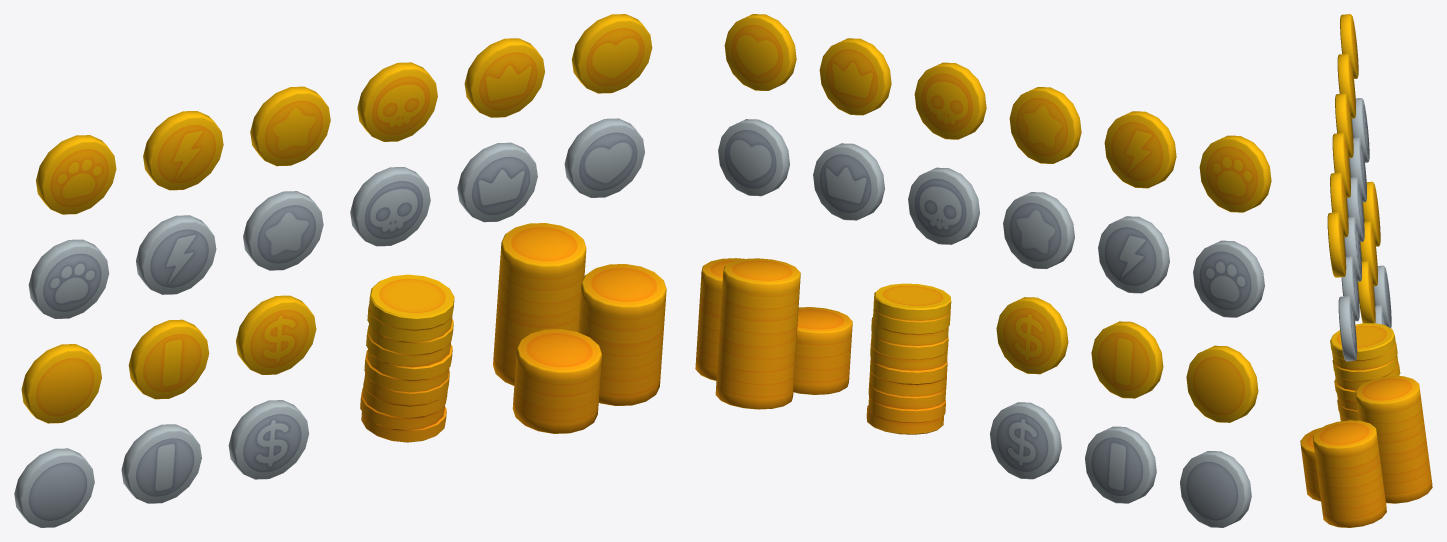
The model's file is Coin Pack.gltf.
3 views of the same model, side by side, from view 1: azimuth 30°, elevation 25°; view 2: azimuth 150°, elevation 25°; view 3: azimuth 270°, elevation 25° (orthographic). The views are drawn at different scales.
Visible parts, largest first — view 1: Coins_02, Coins_01, Coin_Pet_Gold, Coin_Star_Silver, Coin_One_Silver, Coin_Silver, Coin_Thunder_Silver, Coin_Crown_Gold, Coin_Heart_Gold, Coin_Heart_Silver, Coin_Dollar_Silver, Coin_Star_Gold (+8 smaller); view 2: Coins_02, Coins_01, Coin_One_Gold, Coin_Pet_Gold, Coin_Skull_Gold, Coin_One_Silver, Coin_Skull_Silver, Coin_Crown_Gold, Coin_Pet_Silver, Coin_Star_Silver, Coin_Thunder_Gold, Coin_Heart_Silver (+8 smaller); view 3: Coins_02, Coins_01, Coin_Heart_Gold, Coin_Heart_Silver, Coin_Dollar_Gold, Coin_Star_Gold, Coin_Crown_Gold, Coin_Pet_Gold, Coin_Thunder_Gold, Coin_Skull_Gold, Coin_Crown_Silver, Coin_Gold (+7 smaller).
Boxes of the visible parts, x1,y1,x2,y2 form: Coins_02: (493,223,666,433); Coins_01: (360,274,454,442); Coin_Pet_Gold: (36,135,116,214); Coin_Star_Silver: (243,191,323,270); Coin_One_Silver: (121,424,201,503); Coin_Silver: (14,448,94,527); Coin_Thunder_Silver: (136,215,216,294); Coin_Crown_Gold: (464,38,544,117); Coin_Heart_Gold: (571,14,652,93); Coin_Heart_Silver: (564,118,644,197); Coin_Dollar_Silver: (228,400,308,479); Coin_Star_Gold: (250,86,330,166); Coins_02: (695,258,852,409); Coins_01: (866,283,951,434); Coin_One_Gold: (1091,321,1163,398); Coin_Pet_Gold: (1199,135,1271,212); Coin_Skull_Gold: (914,62,986,139); Coin_One_Silver: (1085,426,1156,503); Coin_Skull_Silver: (908,167,979,244); Coin_Crown_Gold: (819,38,891,115); Coin_Pet_Silver: (1193,240,1264,317); Coin_Star_Silver: (1003,192,1074,269); Coin_Thunder_Gold: (1104,111,1176,188); Coin_Heart_Silver: (718,119,789,196); Coins_02: (1300,375,1432,527); Coins_01: (1330,323,1400,421); Coin_Heart_Gold: (1327,212,1346,277); Coin_Heart_Silver: (1338,296,1357,361); Coin_Dollar_Gold: (1357,261,1375,323); Coin_Star_Gold: (1335,93,1353,158); Coin_Crown_Gold: (1330,172,1348,237); Coin_Pet_Gold: (1340,14,1358,78); Coin_Thunder_Gold: (1337,53,1355,118); Coin_Skull_Gold: (1332,133,1350,197); Coin_Crown_Silver: (1341,256,1359,321); Coin_Gold: (1362,181,1380,246).
Size of the model in its own units: 586 by 369 by 142.
Materials: 20 (20 with a texture image).
